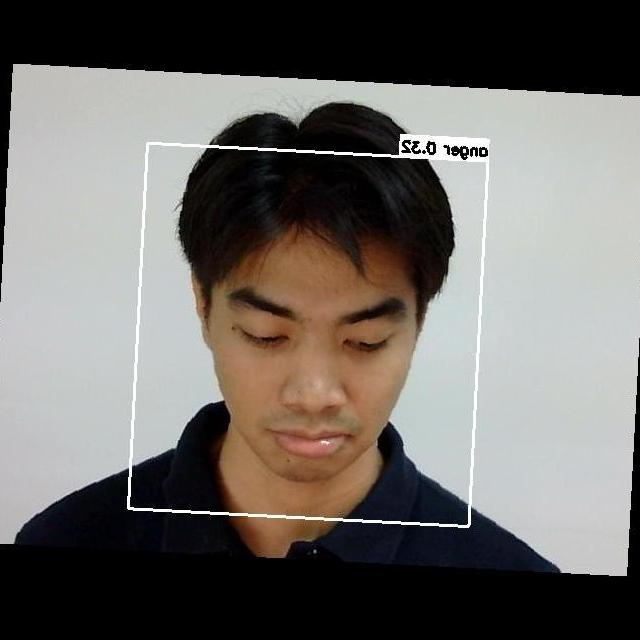Sad: (215, 255, 412, 479)
